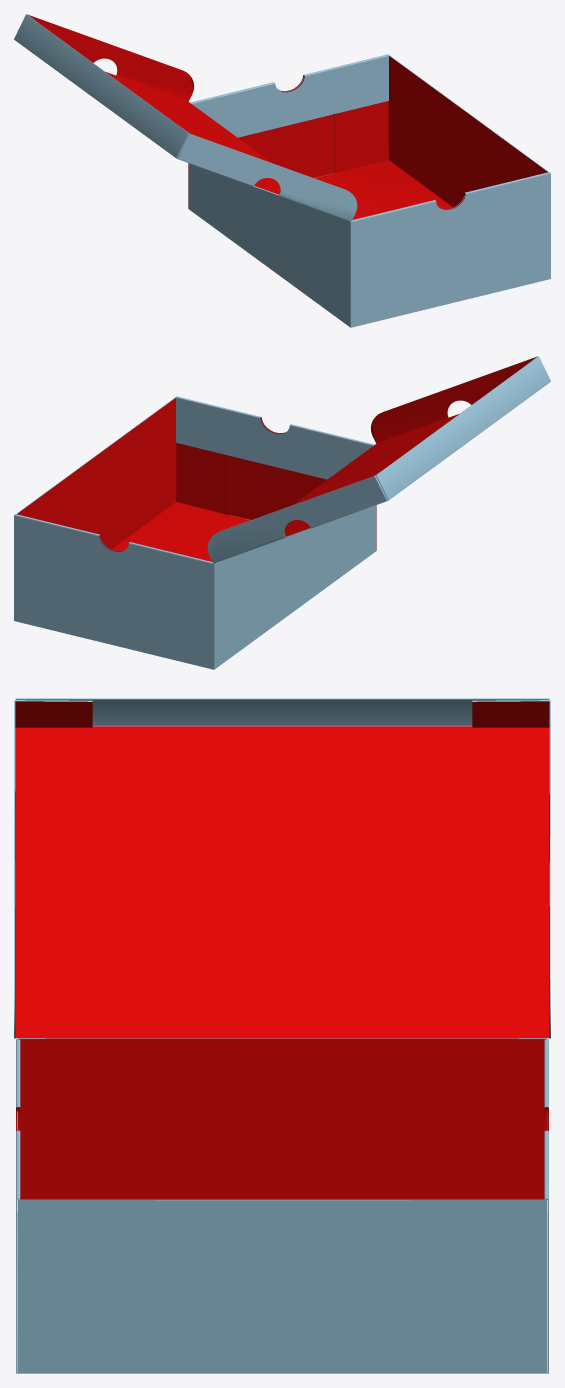
The model's file is nike-shoebox-animation-02.glb.
3 renders of one model, top to bottom at view 1: azimuth 30°, elevation 25°; view 2: azimuth 150°, elevation 25°; view 3: azimuth 270°, elevation 25°, orthographic. The views are drawn at different scales.
Visible parts, largest first — view 1: Box.001, BoxLid.001; view 2: Box.001, BoxLid.001; view 3: BoxLid.001, Box.001.
Boxes of the visible parts, box(x1,y1,x2,y2) form: Box.001: box(188, 54, 550, 327); BoxLid.001: box(14, 14, 357, 221); Box.001: box(14, 396, 376, 669); BoxLid.001: box(207, 356, 550, 563); BoxLid.001: box(14, 698, 550, 1038); Box.001: box(16, 1038, 548, 1373).
Size of the model in its own units: 0.4237 by 0.2534 by 0.3203.
Materials: 4 (2 with a texture image).
